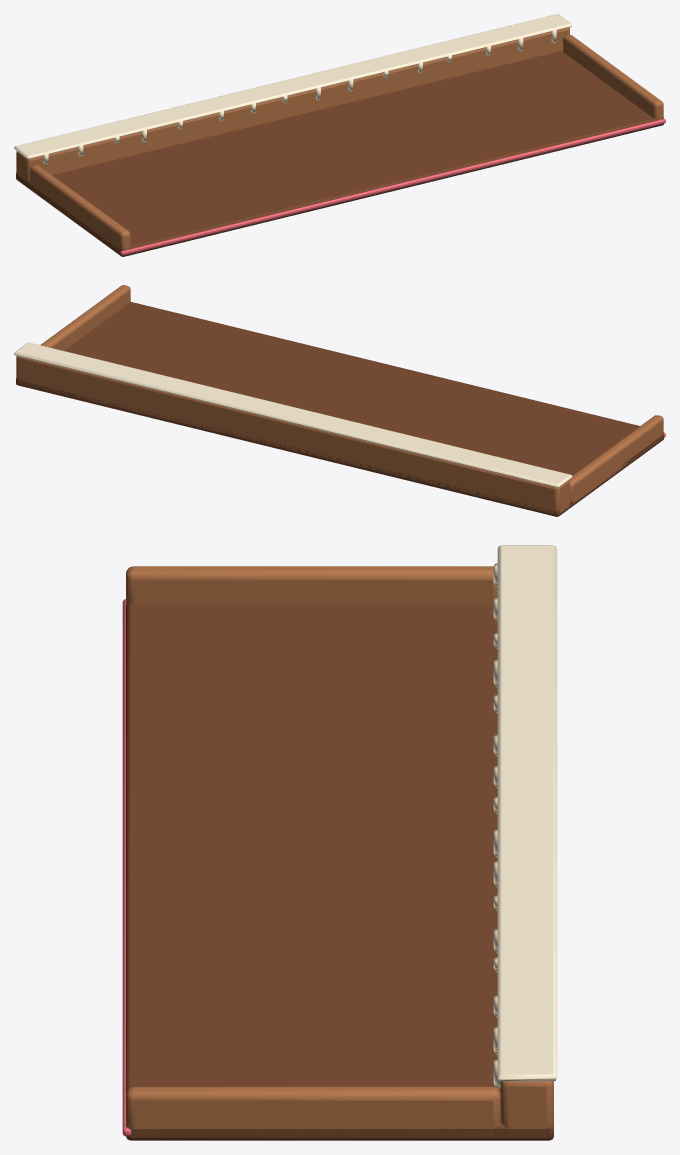
The model's file is music-piano-bed.glb.
3 views of the same model, one above another, from view 1: azimuth 30°, elevation 25°; view 2: azimuth 150°, elevation 25°; view 3: azimuth 270°, elevation 25° (orthographic). The views are drawn at different scales.
Parts seen in each view (by area): view 1: music-piano-bed; view 2: music-piano-bed; view 3: music-piano-bed.
Boxes of the visible parts, x1=… form: music-piano-bed: x1=14, y1=14, x2=665, y2=256; music-piano-bed: x1=14, y1=285, x2=665, y2=516; music-piano-bed: x1=122, y1=545, x2=557, y2=1140.
Size of the model in its own units: 16.46 by 0.97 by 5.68.
1 material, 1 textured.
